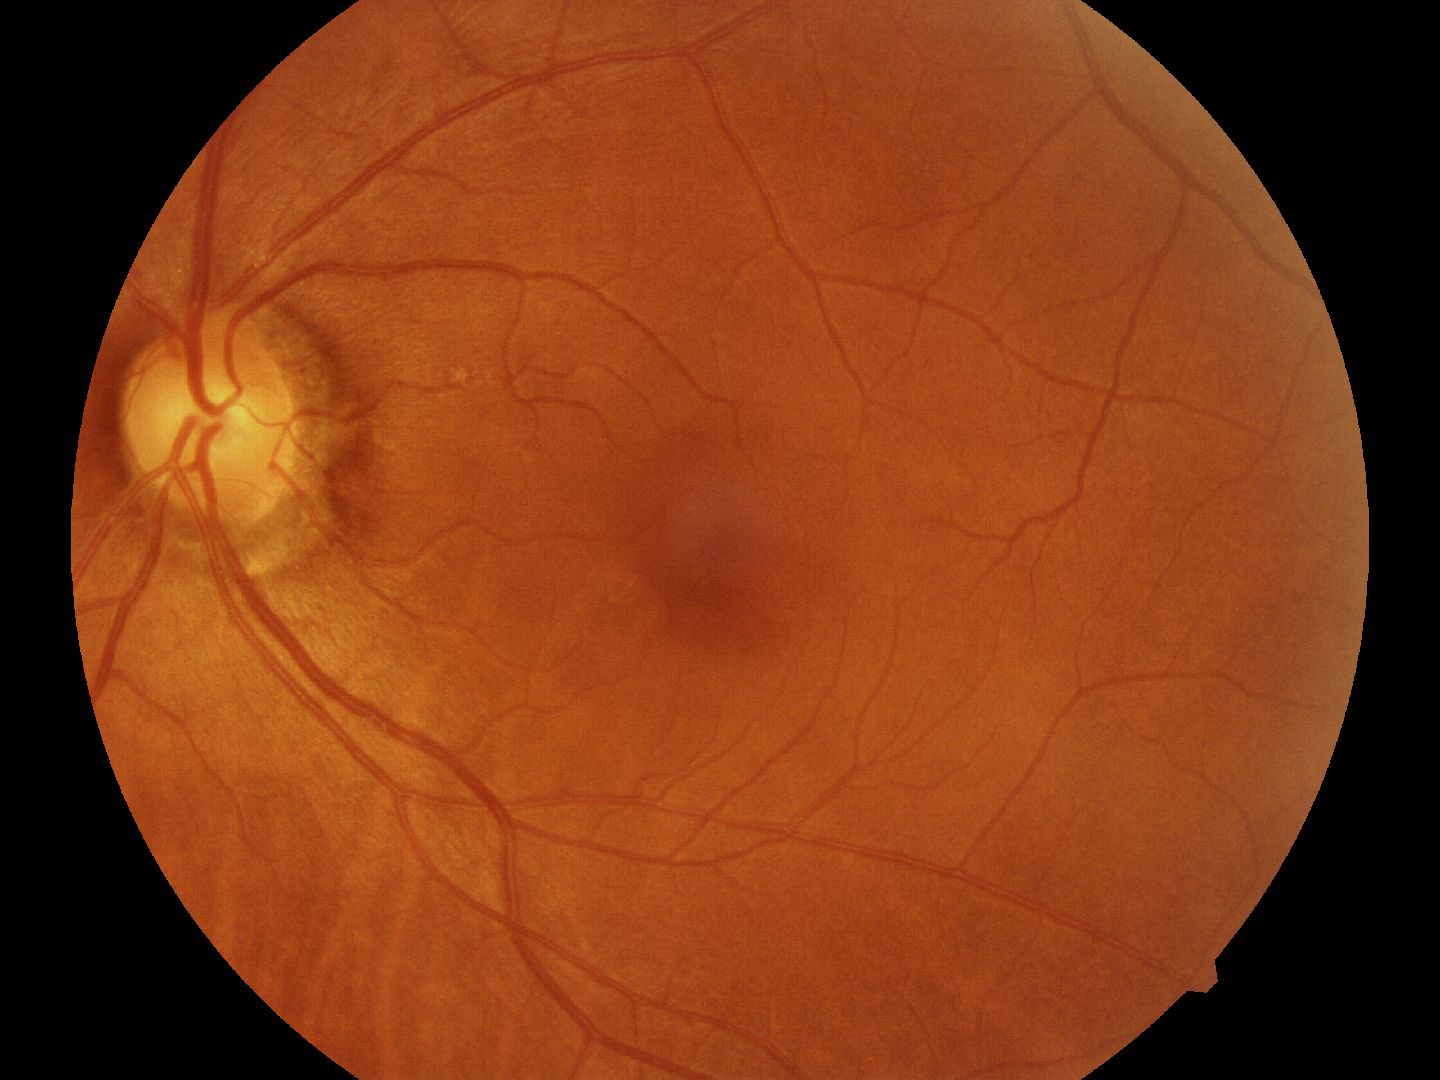Hemorrhages: (621, 434, 818, 649)
Optic-Disc: (130, 307, 337, 551)
Venules: (285, 624, 495, 824)
